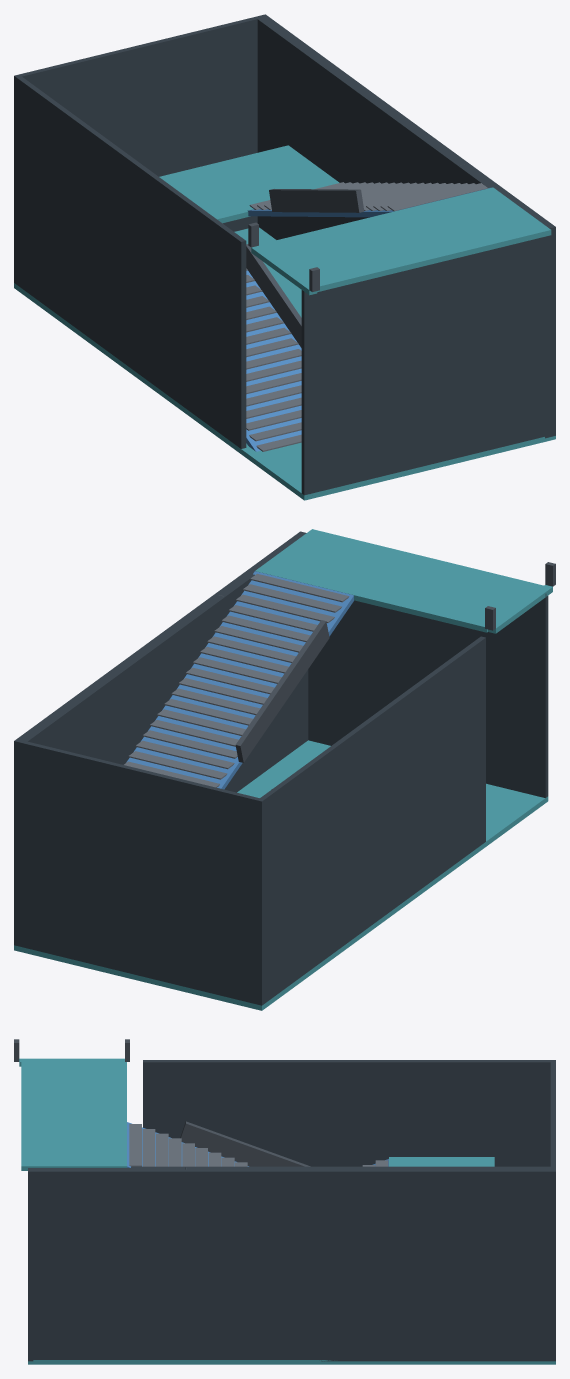
3 renders of one model, top to bottom at view 1: azimuth 30°, elevation 25°; view 2: azimuth 150°, elevation 25°; view 3: azimuth 270°, elevation 25°, orthographic. The views are drawn at different scales.
Parts seen in each view (by area): view 1: Stair_Special_Rooftop_EnclosureWall_DoorSide, Stair_Special_Rooftop_EnclosureWall_Inner, Stair_Special_Rooftop_EnclosureWall_Far, Stair_Special_Rooftop_EnclosureWall_Outer, Stair_Special_Rooftop_UpperDoorLanding_Walkable, Stair_Special_Rooftop_TurnLanding_Walkable, Stair_Special_Rooftop_LowerDoorLanding_Walkable, Stair_Special_Rooftop_LowerFlight_Walkable, Stair_Special_Rooftop_UpperFlight_Guard_02, Stair_Special_Rooftop_LowerFlight_Guard_02, Stair_Special_Rooftop_UpperFlight_Walkable, Stair_Special_Rooftop_CoreConnector_Walkable (+1 smaller); view 2: Stair_Special_Rooftop_EnclosureWall_Far, Stair_Special_Rooftop_EnclosureWall_Inner, Stair_Special_Rooftop_EnclosureWall_DoorSide, Stair_Special_Rooftop_EnclosureWall_Outer, Stair_Special_Rooftop_UpperDoorLanding_Walkable, Stair_Special_Rooftop_UpperFlight_Walkable, Stair_Special_Rooftop_LowerDoorLanding_Walkable, Stair_Special_Rooftop_UpperFlight_Guard_02, Stair_Special_Rooftop_ROOT_UpperFlight_Tread_01, Stair_Special_Rooftop_ROOT_UpperFlight_Tread_17, Stair_Special_Rooftop_ROOT_UpperFlight_Tread_18, Stair_Special_Rooftop_ROOT_UpperFlight_Tread_02 (+15 smaller); view 3: Stair_Special_Rooftop_EnclosureWall_Outer, Stair_Special_Rooftop_EnclosureWall_Inner, Stair_Special_Rooftop_UpperDoorLanding_Walkable, Stair_Special_Rooftop_LowerDoorLanding_Walkable, Stair_Special_Rooftop_UpperFlight_Guard_02, Stair_Special_Rooftop_EnclosureWall_DoorSide, Stair_Special_Rooftop_TurnLanding_Walkable, Stair_Special_Rooftop_EnclosureWall_Far, Stair_Special_Rooftop_ROOT_UpperFlight_Tread_01, Stair_Special_Rooftop_ROOT_UpperFlight_Tread_02, Stair_Special_Rooftop_ROOT_UpperFlight_Tread_03, Stair_Special_Rooftop_CoreConnector_Walkable.
Part boxes in pixels (x1,y1,x2,y2): Stair_Special_Rooftop_EnclosureWall_DoorSide: [301, 225, 555, 495]; Stair_Special_Rooftop_EnclosureWall_Inner: [17, 76, 246, 448]; Stair_Special_Rooftop_EnclosureWall_Far: [14, 14, 267, 284]; Stair_Special_Rooftop_EnclosureWall_Outer: [255, 15, 555, 438]; Stair_Special_Rooftop_UpperDoorLanding_Walkable: [259, 187, 551, 291]; Stair_Special_Rooftop_TurnLanding_Walkable: [159, 145, 339, 223]; Stair_Special_Rooftop_LowerDoorLanding_Walkable: [14, 227, 555, 500]; Stair_Special_Rooftop_LowerFlight_Walkable: [246, 270, 301, 451]; Stair_Special_Rooftop_UpperFlight_Guard_02: [269, 189, 364, 212]; Stair_Special_Rooftop_LowerFlight_Guard_02: [246, 244, 301, 347]; Stair_Special_Rooftop_UpperFlight_Walkable: [247, 187, 490, 217]; Stair_Special_Rooftop_CoreConnector_Walkable: [251, 245, 317, 295]; Stair_Special_Rooftop_EnclosureWall_Far: [14, 739, 264, 1005]; Stair_Special_Rooftop_EnclosureWall_Inner: [257, 636, 485, 1005]; Stair_Special_Rooftop_EnclosureWall_DoorSide: [298, 531, 548, 797]; Stair_Special_Rooftop_EnclosureWall_Outer: [17, 531, 308, 947]; Stair_Special_Rooftop_UpperDoorLanding_Walkable: [255, 529, 543, 632]; Stair_Special_Rooftop_UpperFlight_Walkable: [126, 571, 353, 789]; Stair_Special_Rooftop_LowerDoorLanding_Walkable: [14, 740, 548, 1010]; Stair_Special_Rooftop_UpperFlight_Guard_02: [235, 620, 329, 762]; Stair_Special_Rooftop_ROOT_UpperFlight_Tread_01: [250, 573, 349, 602]; Stair_Special_Rooftop_ROOT_UpperFlight_Tread_17: [135, 740, 234, 769]; Stair_Special_Rooftop_ROOT_UpperFlight_Tread_18: [128, 751, 227, 779]; Stair_Special_Rooftop_ROOT_UpperFlight_Tread_02: [243, 584, 341, 612]; Stair_Special_Rooftop_EnclosureWall_Outer: [28, 1166, 555, 1361]; Stair_Special_Rooftop_EnclosureWall_Inner: [143, 1060, 555, 1166]; Stair_Special_Rooftop_UpperDoorLanding_Walkable: [21, 1062, 126, 1170]; Stair_Special_Rooftop_LowerDoorLanding_Walkable: [28, 1360, 555, 1364]; Stair_Special_Rooftop_UpperFlight_Guard_02: [180, 1121, 310, 1166]; Stair_Special_Rooftop_EnclosureWall_DoorSide: [28, 1171, 33, 1361]; Stair_Special_Rooftop_TurnLanding_Walkable: [389, 1157, 494, 1166]; Stair_Special_Rooftop_EnclosureWall_Far: [550, 1060, 555, 1171]; Stair_Special_Rooftop_ROOT_UpperFlight_Tread_01: [129, 1124, 141, 1166]; Stair_Special_Rooftop_ROOT_UpperFlight_Tread_02: [142, 1129, 155, 1166]; Stair_Special_Rooftop_ROOT_UpperFlight_Tread_03: [156, 1133, 168, 1166]; Stair_Special_Rooftop_CoreConnector_Walkable: [19, 1058, 124, 1066].
Size of the model in its own units: 15 by 13.47 by 30.8.
